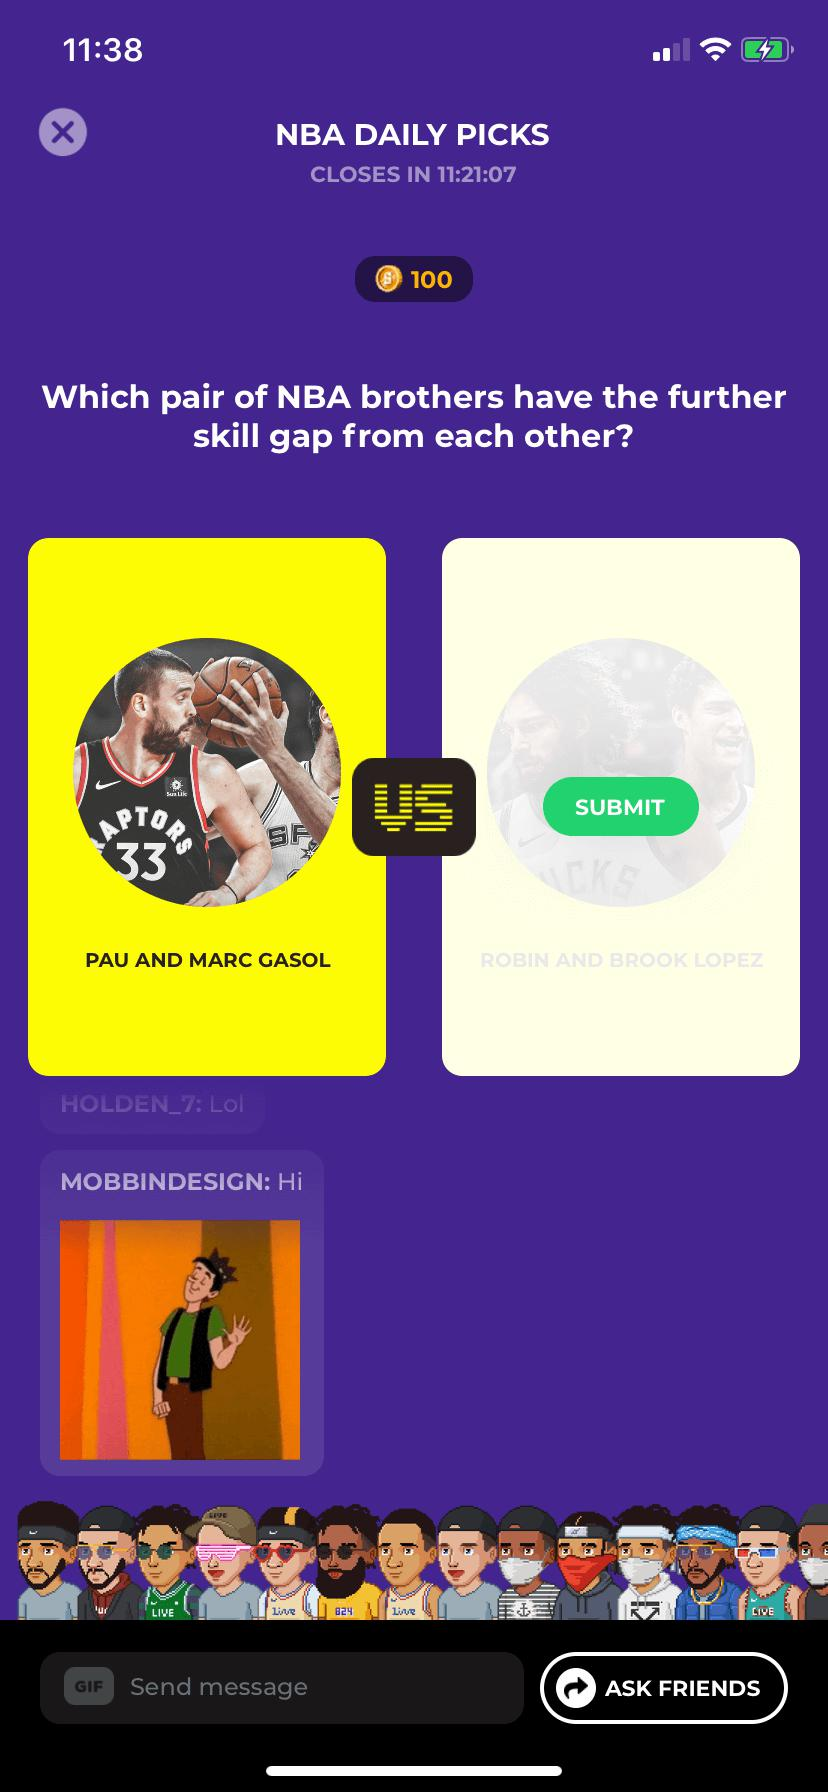Buttons: (535, 1634, 798, 1738), (530, 762, 709, 853), (22, 94, 102, 170)
Text Fields: (25, 1643, 532, 1736)
